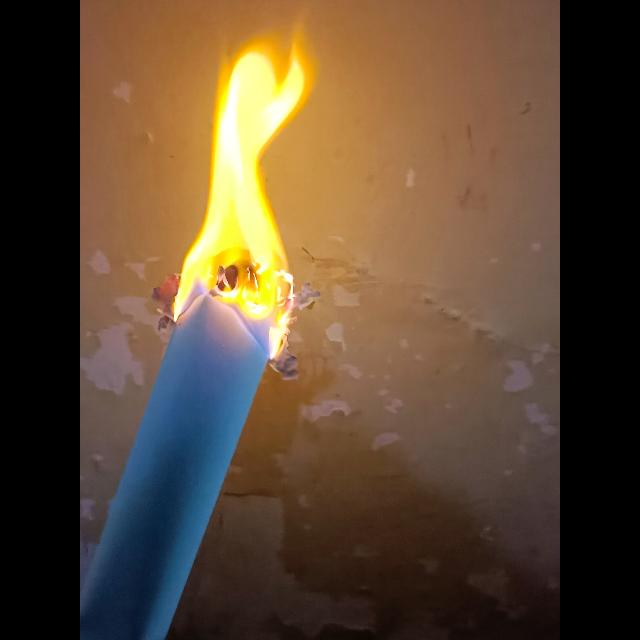fire: (152, 42, 320, 378)
